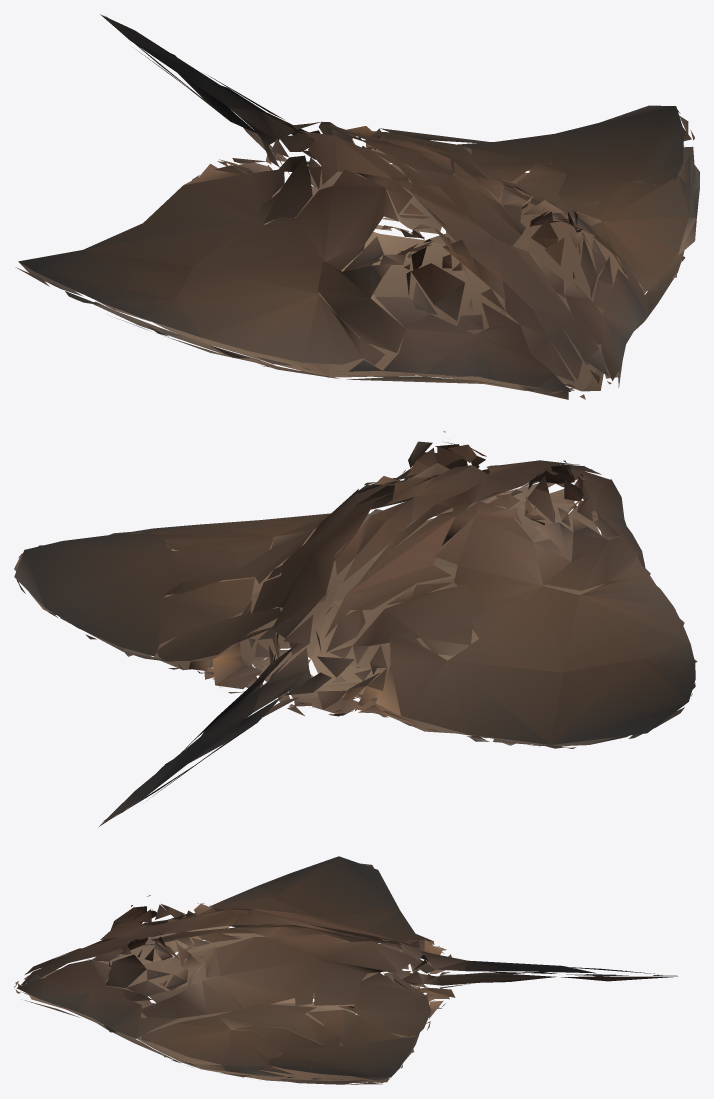
The model's file is stingray.glb.
3 views of the same model, one above another, from view 1: azimuth 30°, elevation 25°; view 2: azimuth 150°, elevation 25°; view 3: azimuth 270°, elevation 25° (orthographic). The views are drawn at different scales.
Parts seen in each view (by area): view 1: stingray; view 2: stingray; view 3: stingray.
Part boxes in pixels (x1,y1,x2,y2): stingray: (15, 14, 699, 399); stingray: (14, 431, 697, 826); stingray: (14, 856, 677, 1084).
Bounding box in the file's own units: 5.17 × 1.07 × 6.76.
